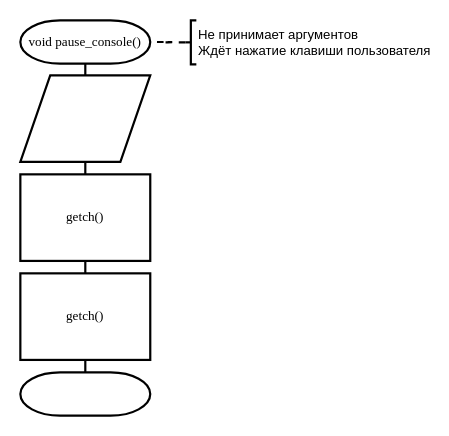
Some shapes in this 449 by 436 pixel diagram are drawn without their labels. Here are the shapes that lost their labels. From the top down, the centre of each, then its label:
(85,118): (сообщение о том, чтобы нажатили клавишу)
(85,393): Конец
